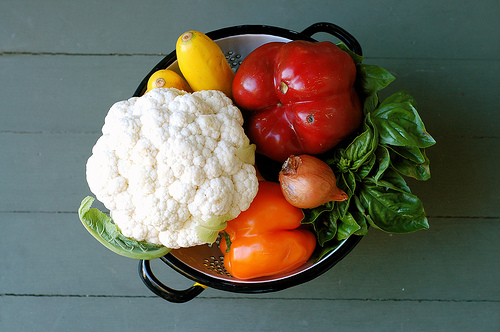cauliflower: (84, 88, 258, 250)
